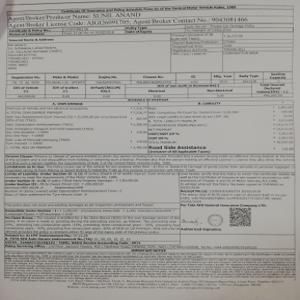table: (7, 3, 294, 98), (5, 101, 294, 155)
text: (4, 249, 294, 292), (5, 157, 177, 197), (178, 171, 294, 205)
